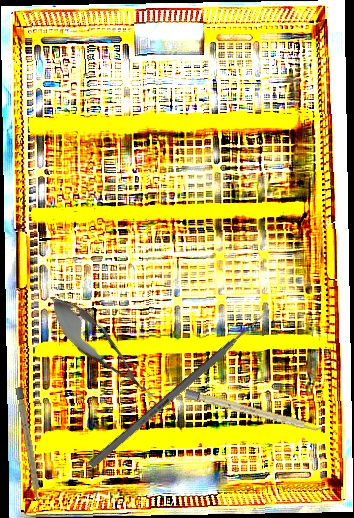Micro Scissor: (36, 285, 168, 413)
Pusher: (88, 306, 273, 469)
Scalpel Handle: (184, 388, 323, 435), (15, 386, 43, 505)
